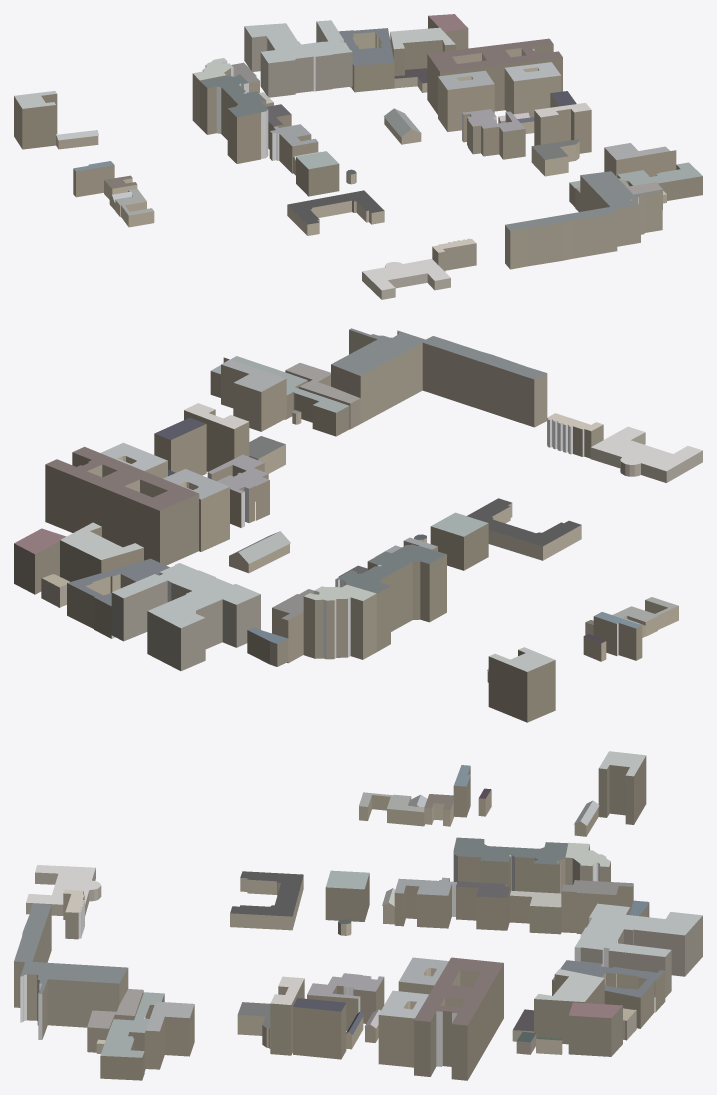
3 renders of one model, top to bottom at view 1: azimuth 30°, elevation 25°; view 2: azimuth 150°, elevation 25°; view 3: azimuth 270°, elevation 25°, orthographic. The views are drawn at different scales.
Parts seen in each view (by area): view 1: tuile; view 2: tuile; view 3: tuile.
Boxes of the visible parts, box(x1,y1,x2,y2) form: tuile: box(14, 14, 702, 299); tuile: box(14, 328, 702, 722); tuile: box(14, 751, 702, 1080).
Bounding box in the file's own units: 284 × 27.85 × 295.
